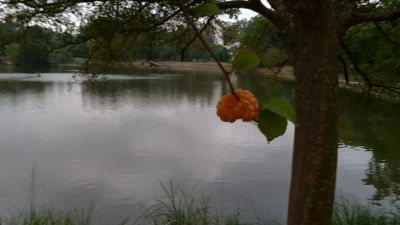eggs: (214, 89, 261, 124)
